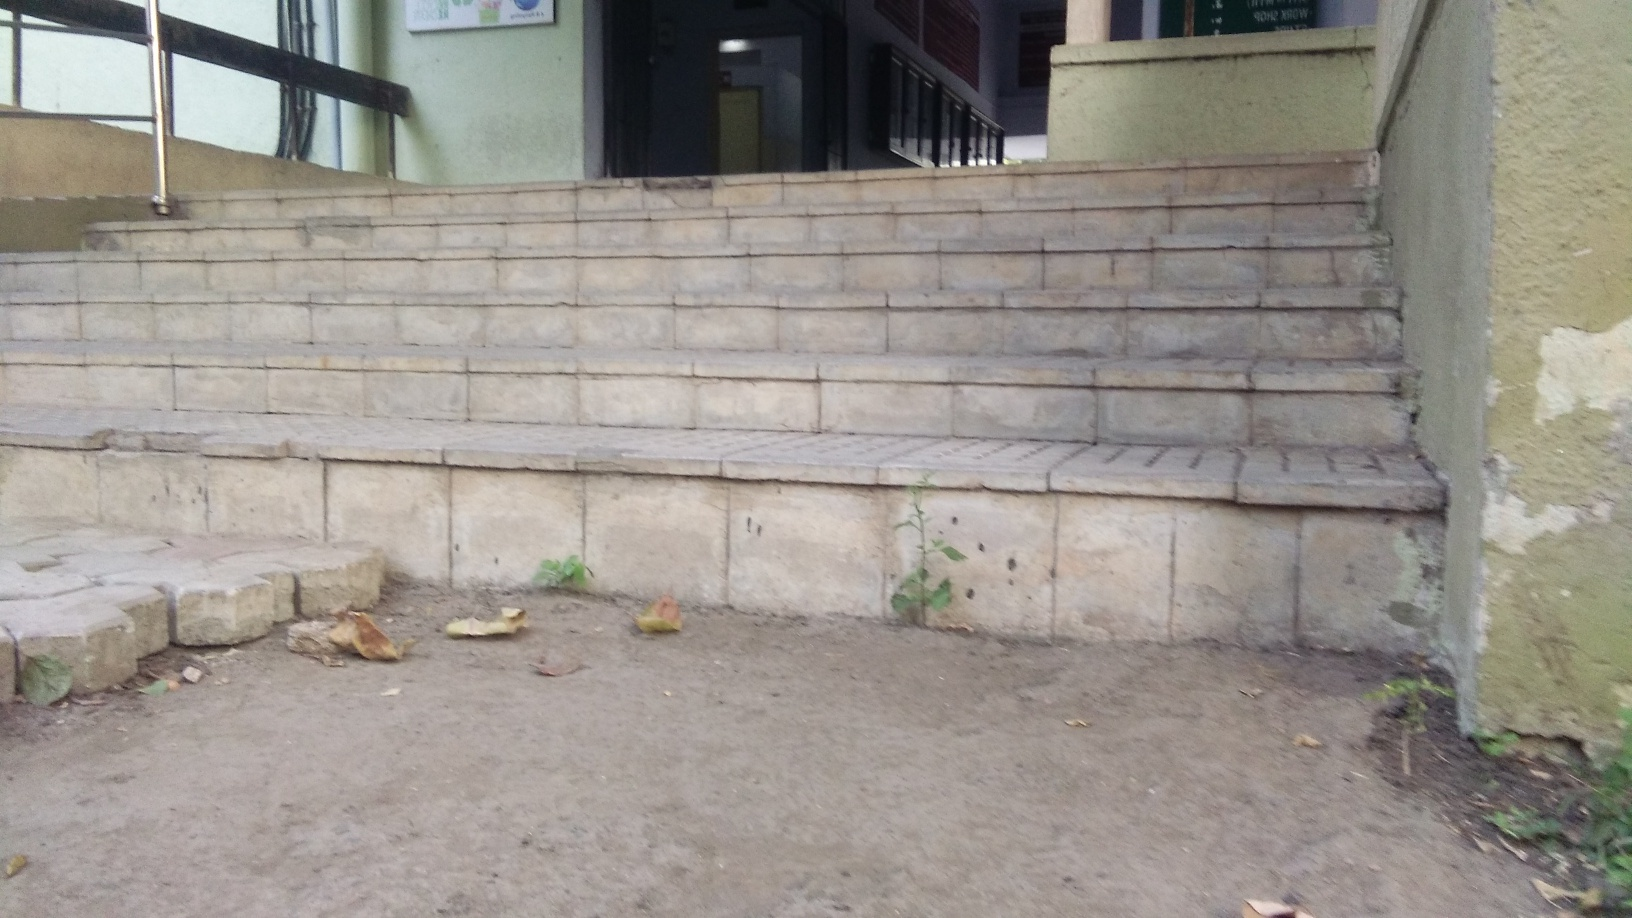stairs_up: (1, 126, 1404, 629)
